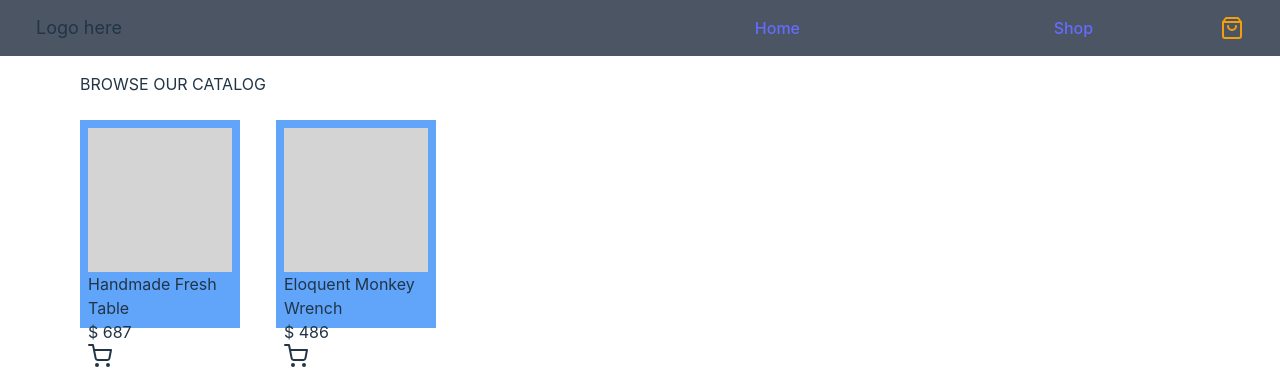
Test: Shop tests › adding two products to bag displays correct bag info
The image size is (1280, 385).
Click the button named "Shopping Bag": (1232, 28) [1220,16,1244,40]
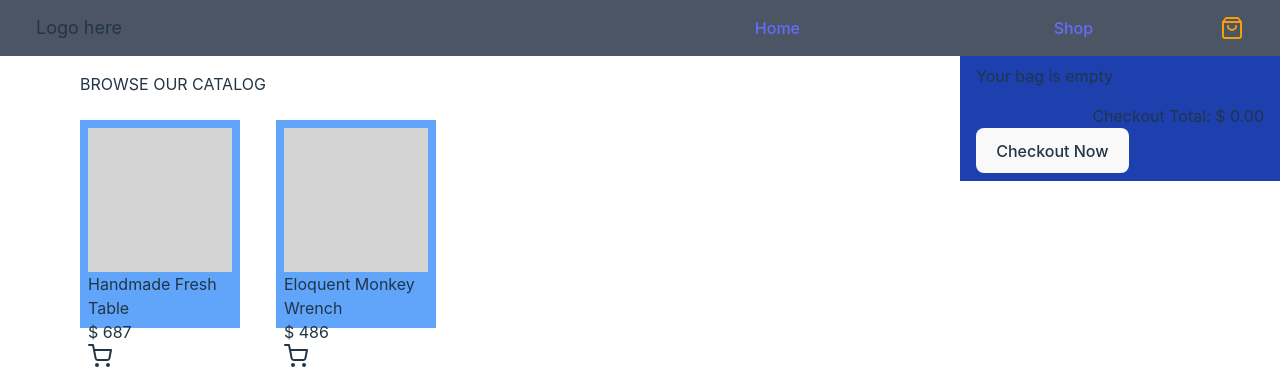
Click the button named "add Handmade Fresh Table to bag": (100, 356) [88,344,112,368]
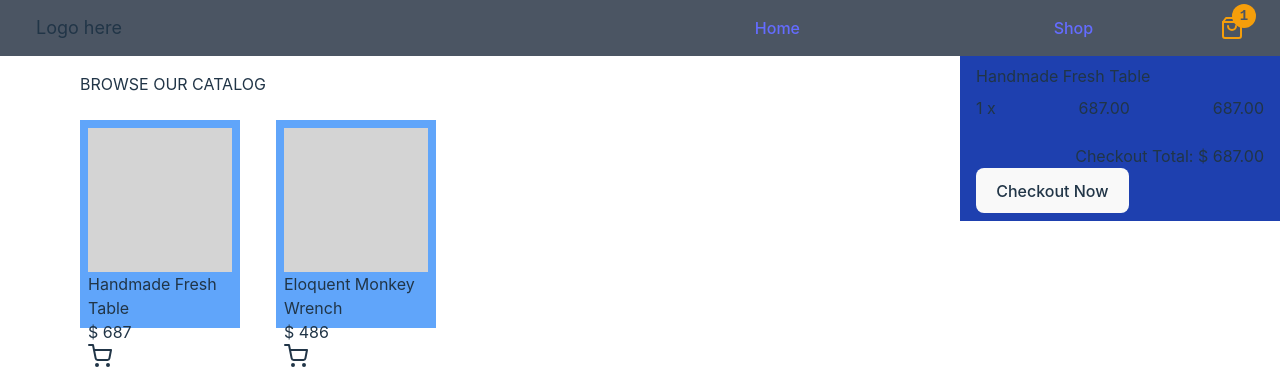
Click the button named "add Eloquent Monkey Wrench to bag": (296, 356) [284,344,308,368]
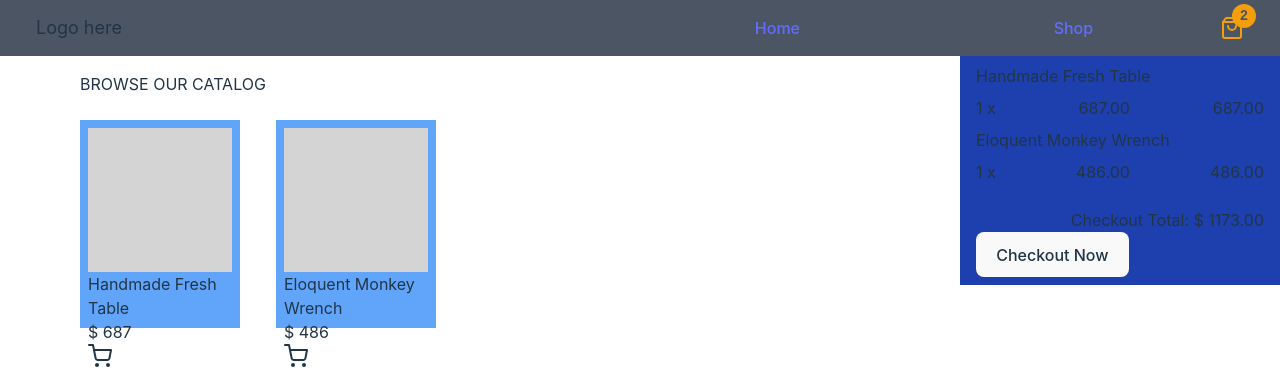
Expected: the 1st heading with class "title" reads "Handmade Fresh Table", [976,66,1150,86]
Expected: the 1st heading "687.00" is shown, [1079,96,1130,120]
Expected: the number of list items named "bag-item" is 2, [976,64,1264,120]; [976,128,1264,184]
